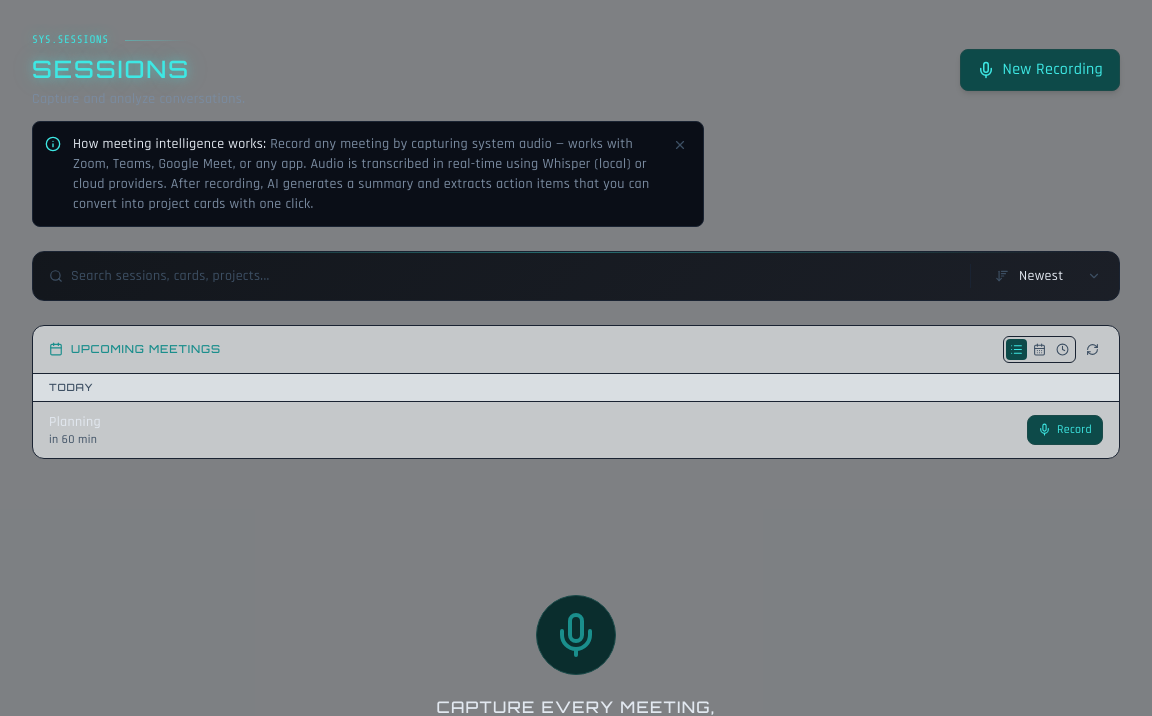
Test: SessionsHome — calendar ribbon (Phase G Task 4) › view preference: switching to Week view persists the choice and swaps the surface
This screenshot has width=1152, height=716.
Expected: the button with aria-label "Start recording for Planning" is shown, [1027,414,1103,444]
Click the button named "Week view": (1040, 349) [1029,338,1050,360]
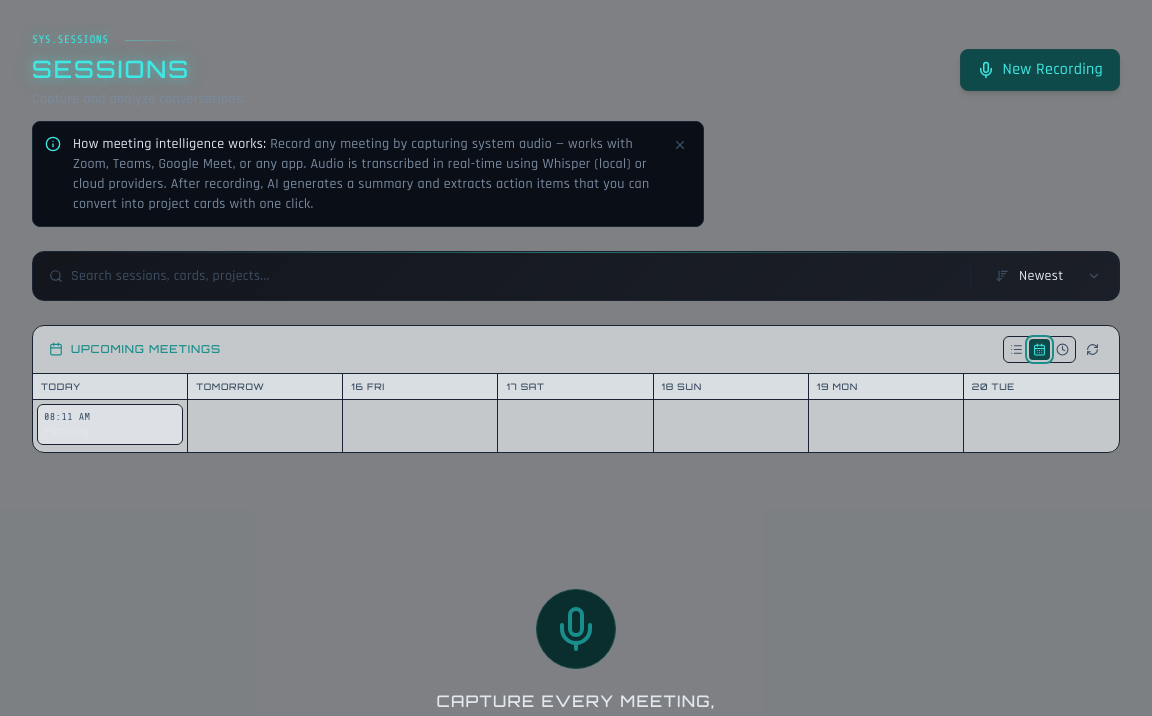
Expected: the number of elements with test id "agenda-week-column" is 7
